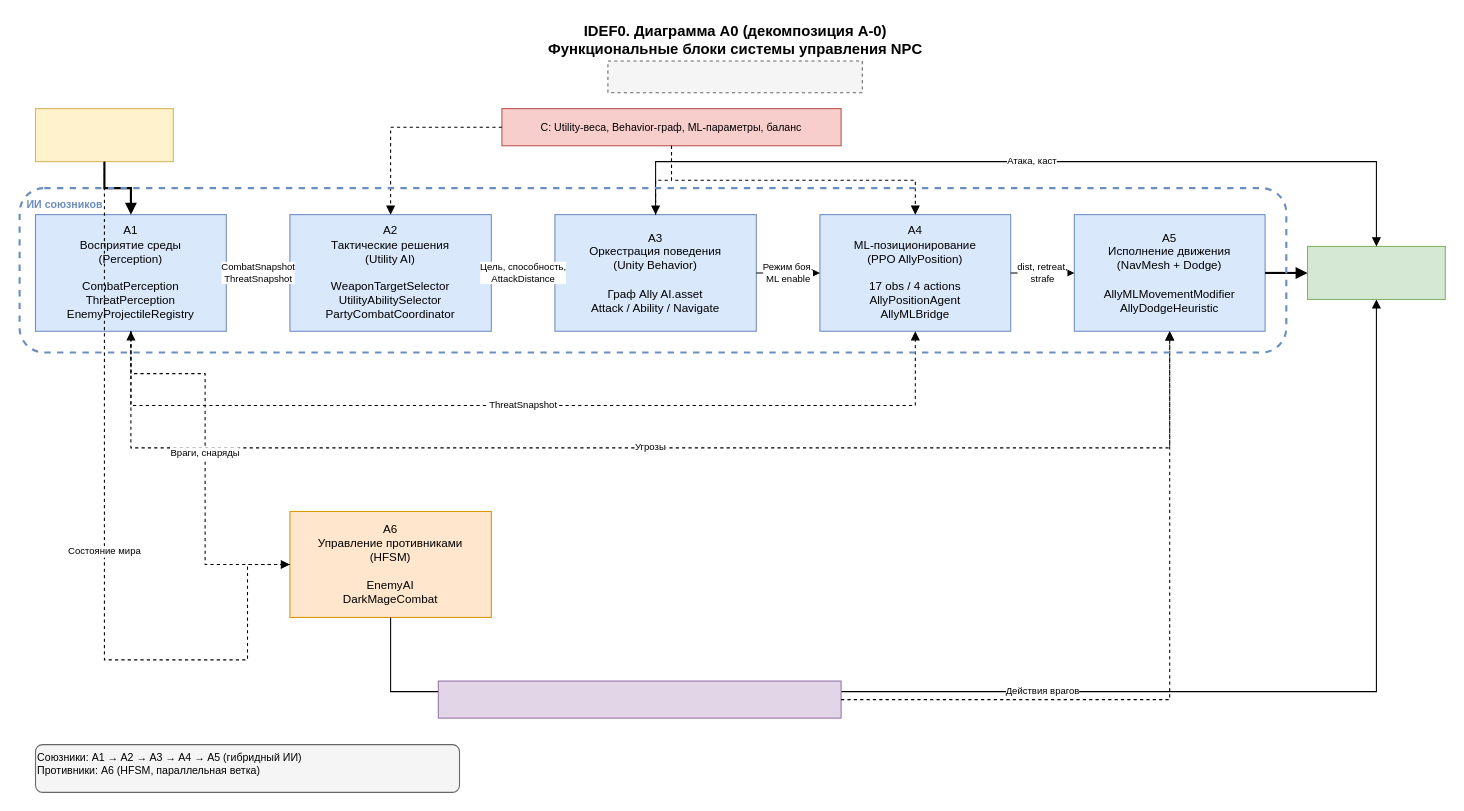
The diagram is 1464 pixels wide and 811 high, and some of its shapes have lost their labels. Each missing label, with the centre of its shape:
"A-0" belongs at (734,76).
"M: Unity 6, ML-Agents, NavMesh Plus, Unity Behavior" belongs at (639,699).
"Действия NPC, события боя" belongs at (1375,272).
"Состояние мира, ввод игрока, профили" belongs at (103,135).
